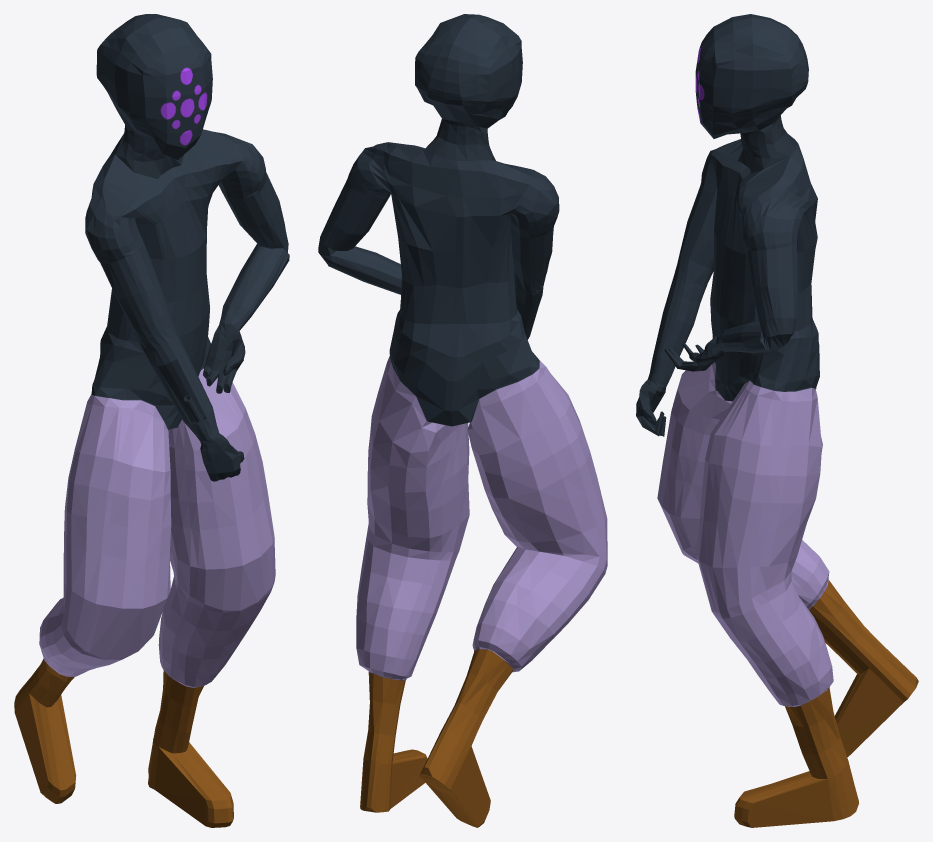
Rendered from Oracle_Run_000006.obj.
The picture shows the model from 3 angles, left to right: view 1: azimuth 30°, elevation 25°; view 2: azimuth 150°, elevation 25°; view 3: azimuth 270°, elevation 25°; orthographic projection. The views are drawn at different scales.
Parts seen in each view (by area): view 1: Cube; view 2: Cube; view 3: Cube.
Part boxes in pixels (bbox=[...]): Cube: bbox=[14, 14, 289, 827]; Cube: bbox=[318, 14, 607, 827]; Cube: bbox=[636, 14, 918, 827].
Size of the model in its own units: 1.27 by 3.84 by 1.27.
